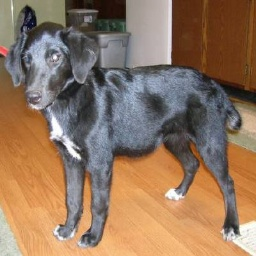dog: (6, 21, 246, 243)
